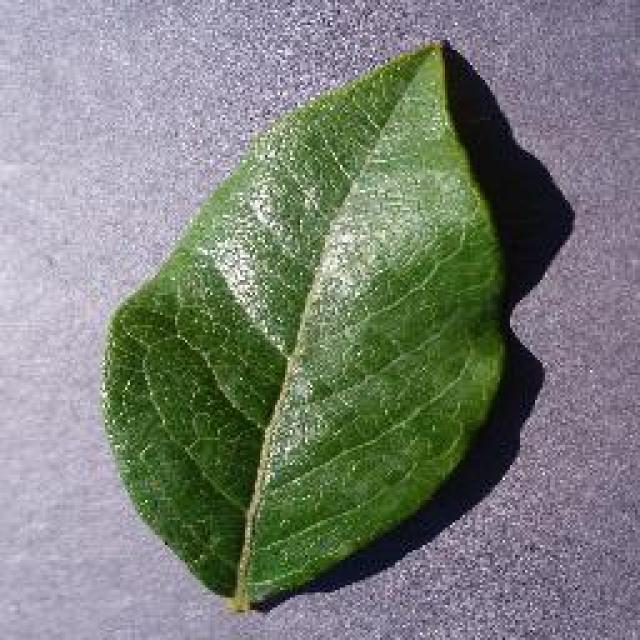Blu_healthy: (125, 176, 479, 530)
